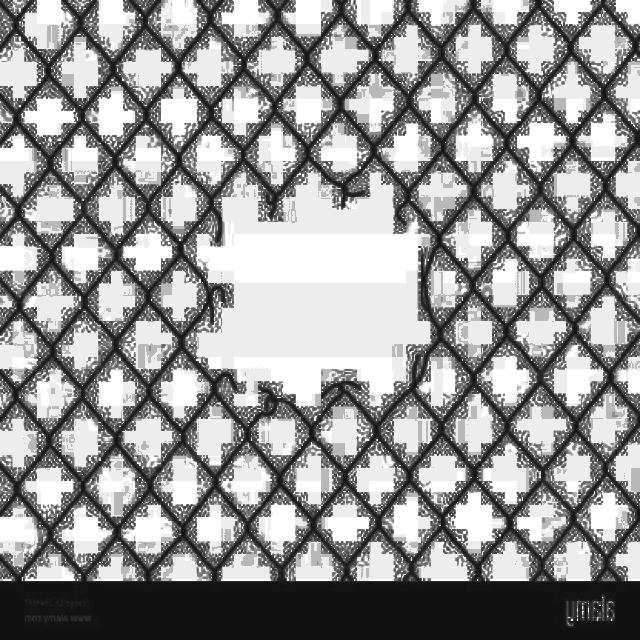anomaly-fence: (160, 143, 472, 419)
